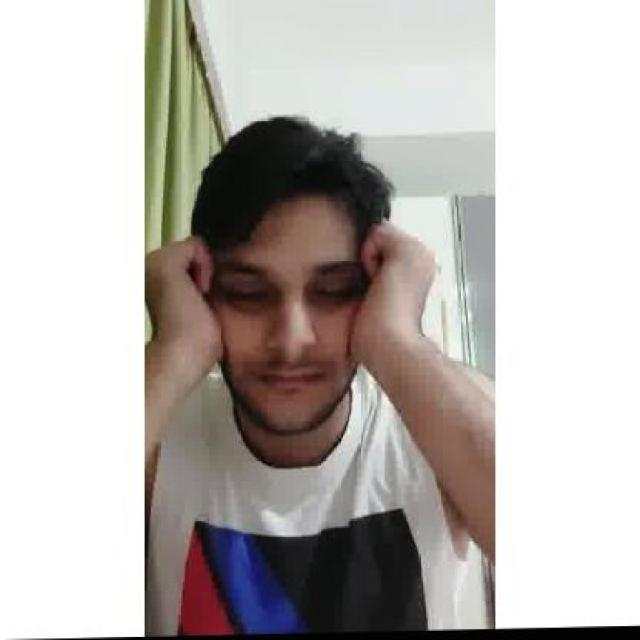inattentif: (200, 114, 372, 437)
